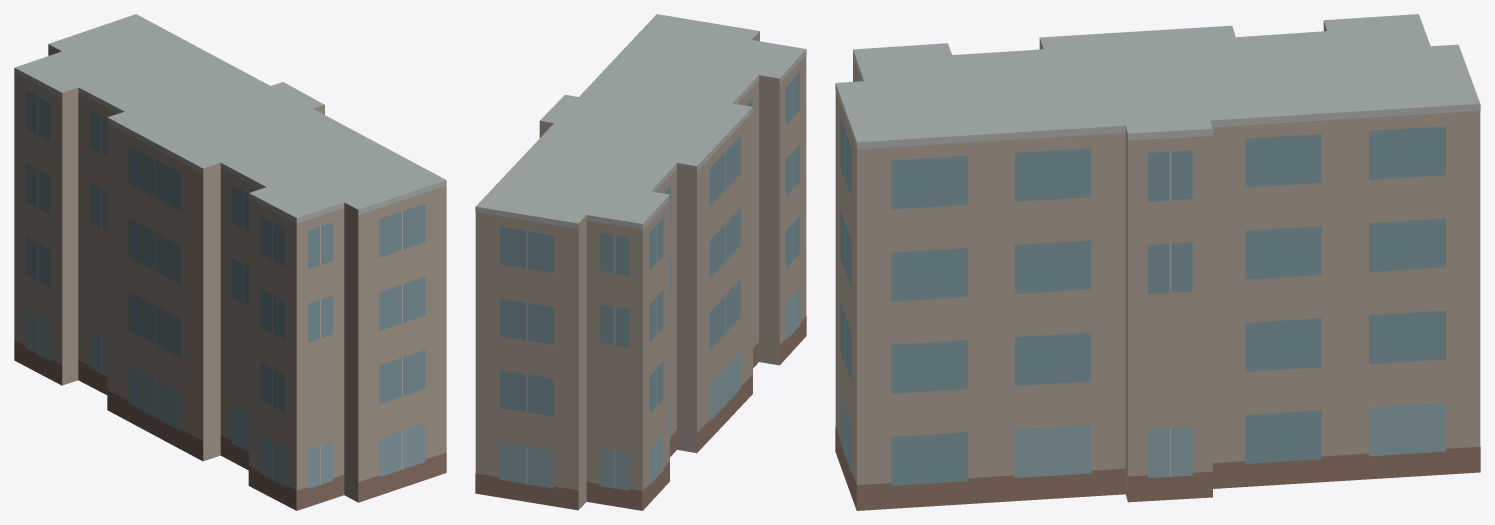
The model's file is survey-upis-32705928.glb.
3 views of the same model, side by side, from view 1: azimuth 30°, elevation 25°; view 2: azimuth 150°, elevation 25°; view 3: azimuth 270°, elevation 25° (orthographic). The views are drawn at different scales.
Parts seen in each view (by area): view 1: survey-upis-32705928.tmp; view 2: survey-upis-32705928.tmp; view 3: survey-upis-32705928.tmp.
Boxes of the visible parts, x1=… form: survey-upis-32705928.tmp: x1=14, y1=14, x2=446, y2=510; survey-upis-32705928.tmp: x1=475, y1=14, x2=806, y2=510; survey-upis-32705928.tmp: x1=835, y1=14, x2=1480, y2=510.
Bounding box in the file's own units: 9.57 × 12.8 × 20.31.
